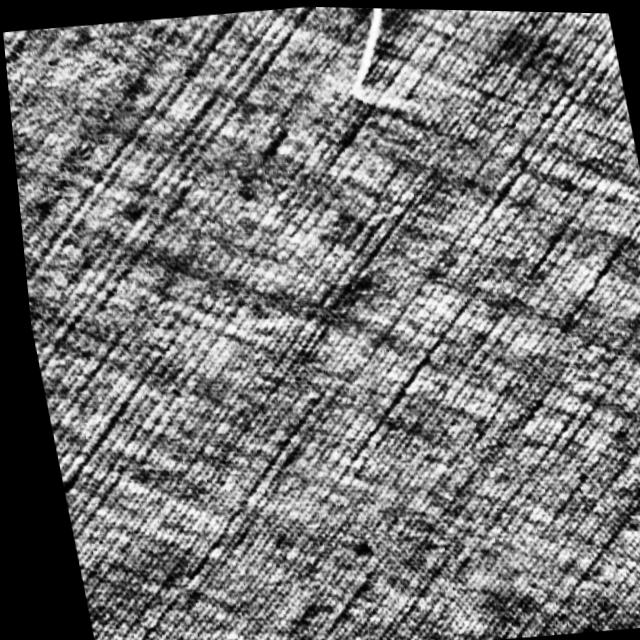Stitch: (321, 6, 434, 119)
